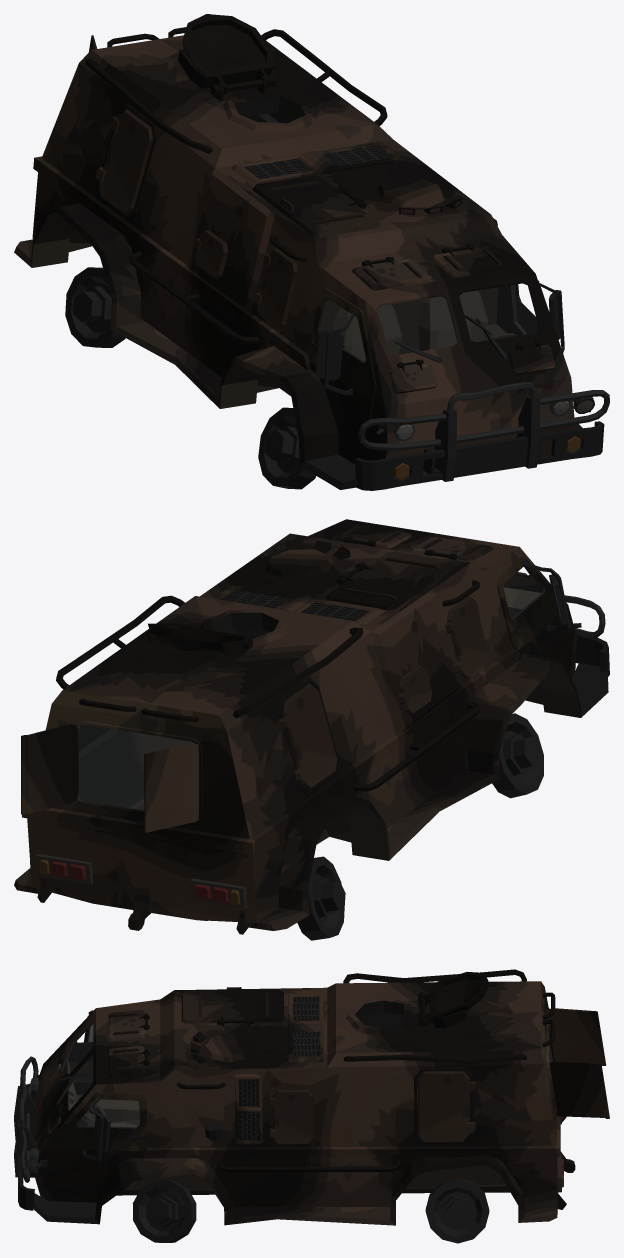
File: SM_Veh_APC_02_Destroyed.fbx
The picture shows the model from 3 angles, top to bottom: view 1: azimuth 30°, elevation 25°; view 2: azimuth 150°, elevation 25°; view 3: azimuth 270°, elevation 25°; orthographic projection. The views are drawn at different scales.
Visible parts, largest first — view 1: SM_Veh_APC_02_Destroyed; view 2: SM_Veh_APC_02_Destroyed; view 3: SM_Veh_APC_02_Destroyed.
Part boxes in pixels (bbox=[...]): SM_Veh_APC_02_Destroyed: bbox=[14, 14, 609, 490]; SM_Veh_APC_02_Destroyed: bbox=[14, 519, 609, 940]; SM_Veh_APC_02_Destroyed: bbox=[14, 969, 609, 1243].
Bounding box in the file's own units: 266 × 267 × 632.
